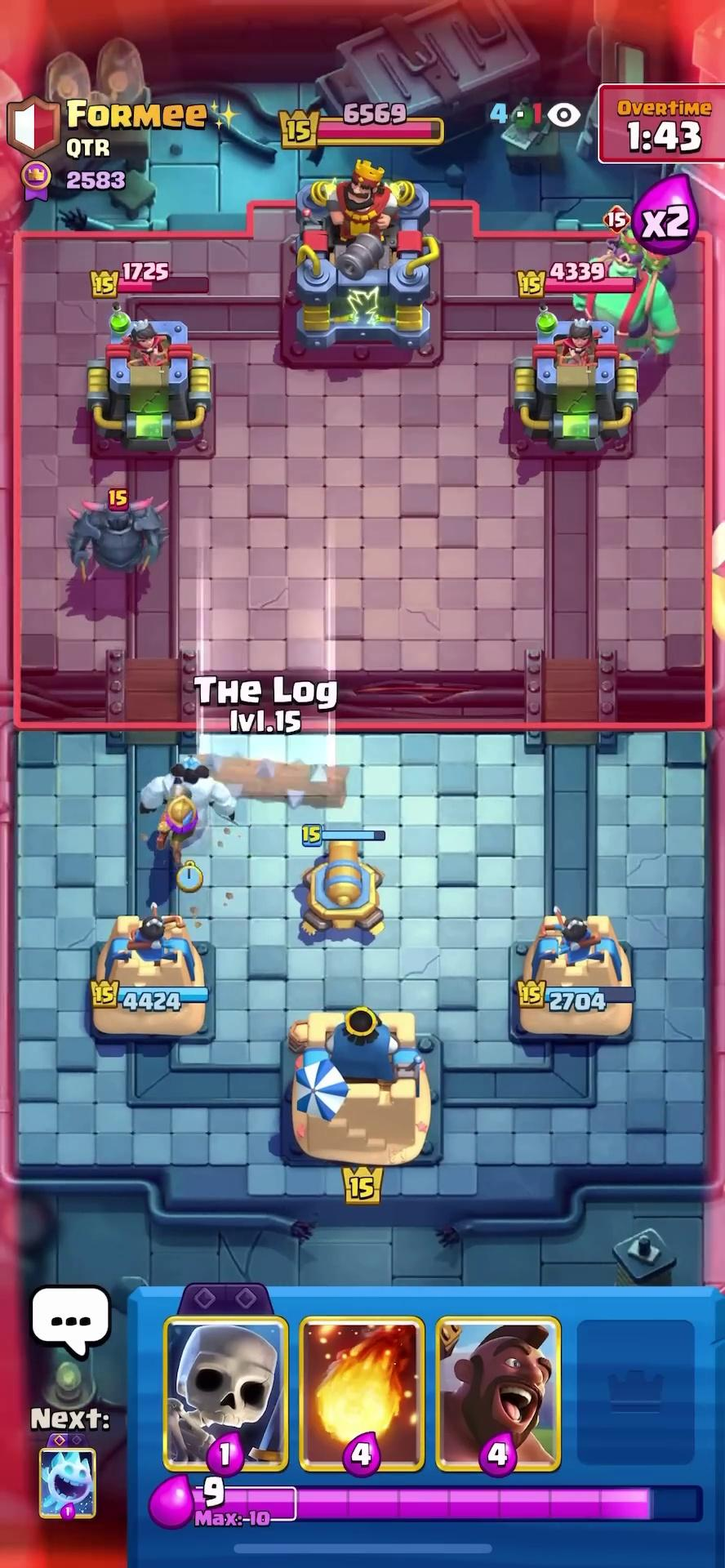cannon: (296, 831, 392, 935)
ice_golem: (131, 745, 243, 821)
musketeer: (149, 784, 204, 853)
